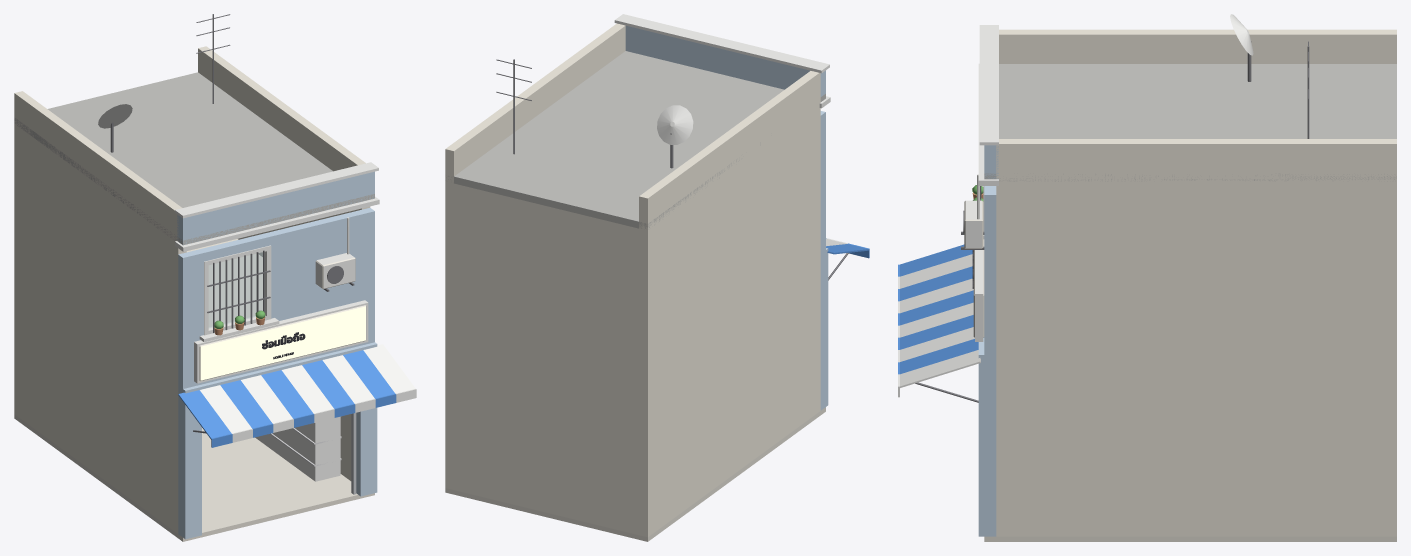
File: SM_Shop_Phone.fbx
3 views of the same model, side by side, from view 1: azimuth 30°, elevation 25°; view 2: azimuth 150°, elevation 25°; view 3: azimuth 270°, elevation 25° (orthographic). The views are drawn at different scales.
Parts seen in each view (by area): view 1: SM_Shop_Phone; view 2: SM_Shop_Phone; view 3: SM_Shop_Phone.
Part boxes in pixels (x1,y1,x2,y2): SM_Shop_Phone: [14, 14, 416, 541]; SM_Shop_Phone: [445, 14, 869, 541]; SM_Shop_Phone: [898, 14, 1396, 541].
Bounding box in the file's own units: 4.9 × 8.95 × 8.47.
